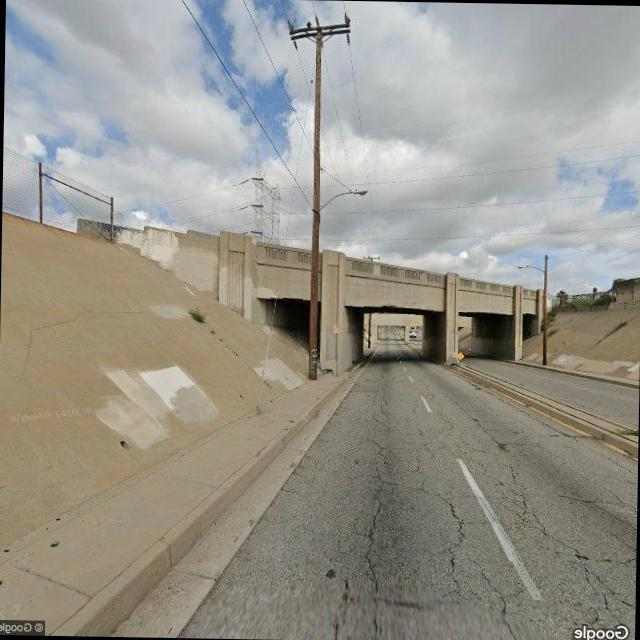crack: (334, 418, 638, 634)
